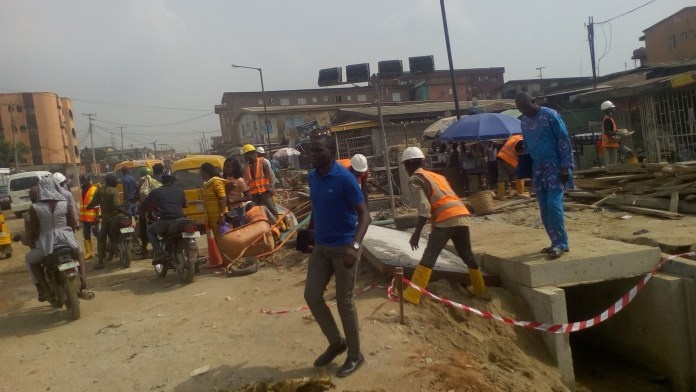blue: (161, 168, 175, 184)
none: (308, 135, 337, 169), (513, 88, 538, 118), (221, 157, 240, 176), (199, 161, 215, 179), (104, 171, 118, 188), (78, 173, 91, 187), (121, 165, 130, 175)
white: (399, 146, 423, 176), (348, 152, 368, 175), (600, 99, 616, 115), (52, 171, 65, 187), (256, 146, 265, 157)
yellow: (239, 143, 255, 161)
